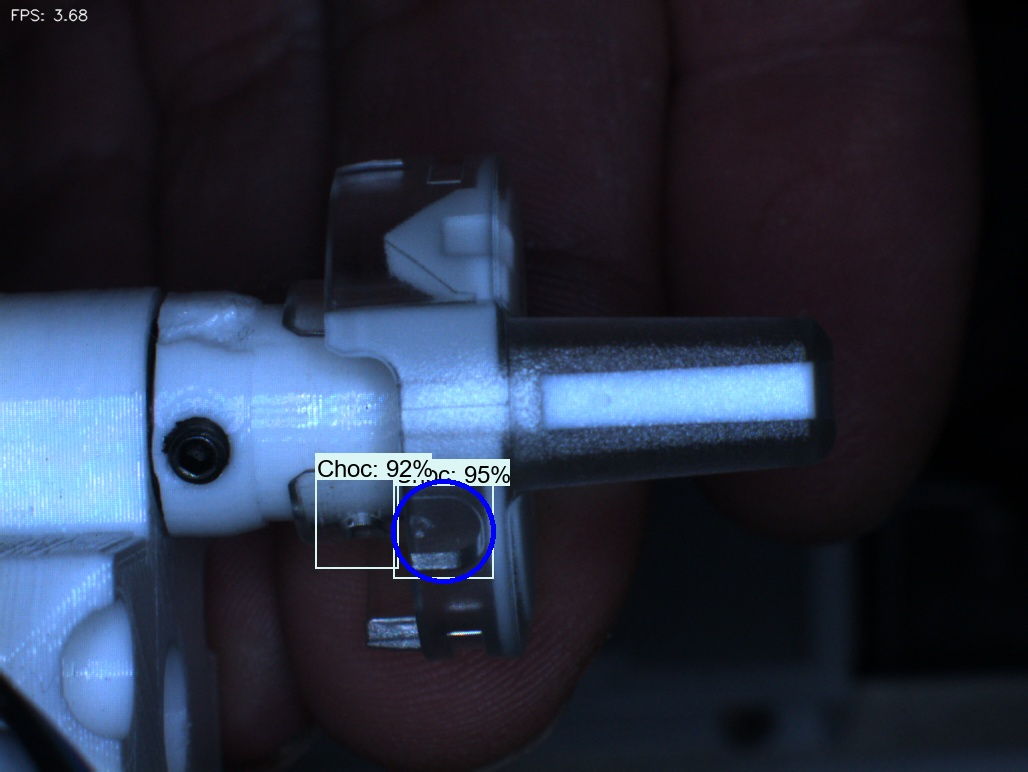DentOk: (353, 210, 429, 299)
